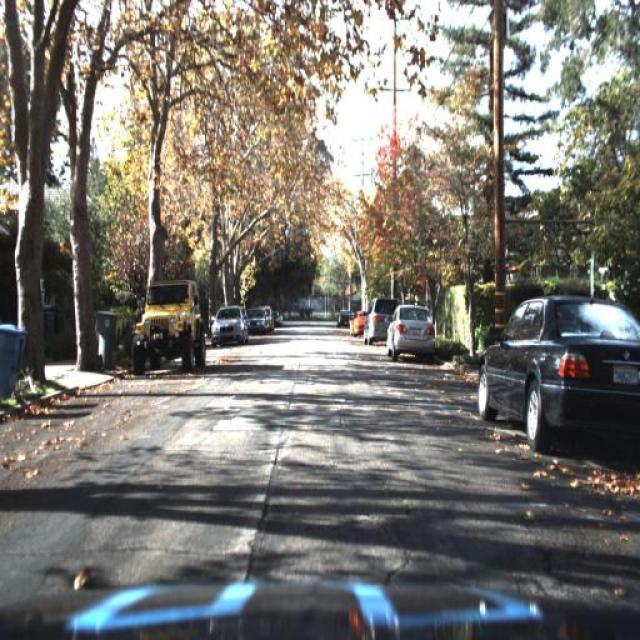car: (454, 274, 638, 451), (128, 277, 208, 374), (383, 298, 442, 362), (208, 302, 248, 353), (362, 296, 389, 352), (347, 299, 367, 345), (247, 308, 268, 337)
